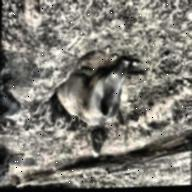boar: (50, 39, 146, 141)
